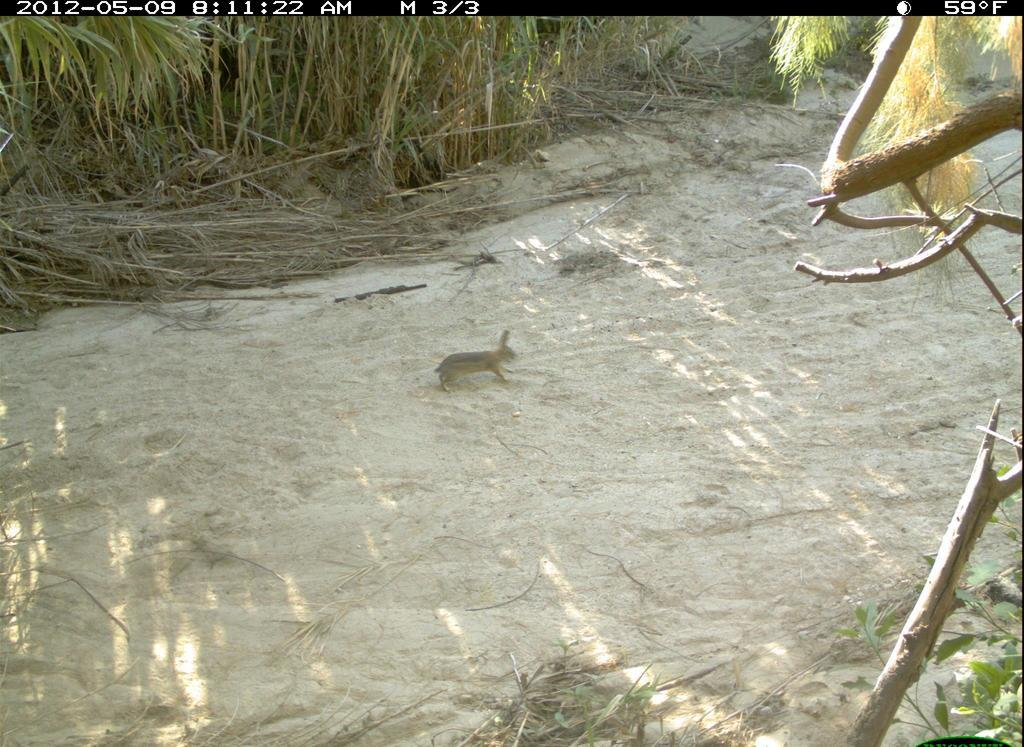rabbit: (428, 323, 524, 397)
